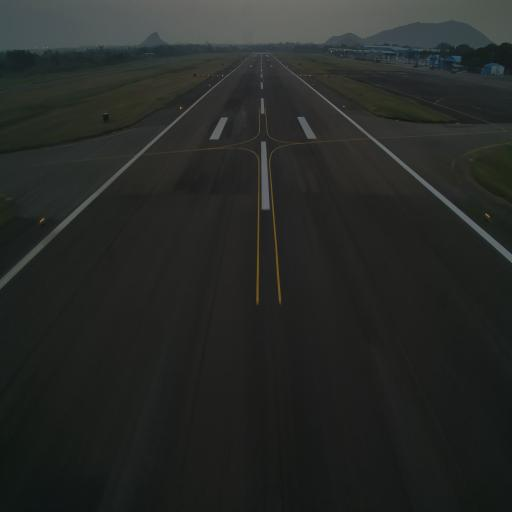on: (483, 208, 491, 222), (38, 214, 46, 227), (179, 105, 182, 110), (208, 84, 211, 88), (343, 104, 345, 109), (313, 83, 315, 87)
